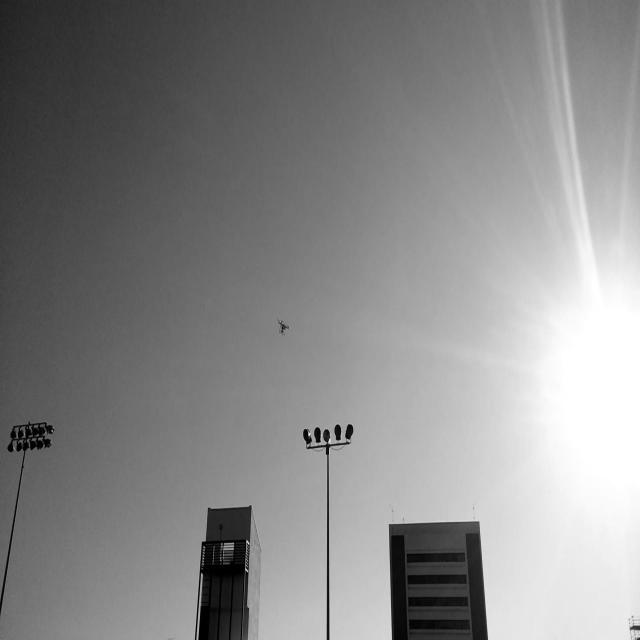drone: (275, 313, 293, 340)
